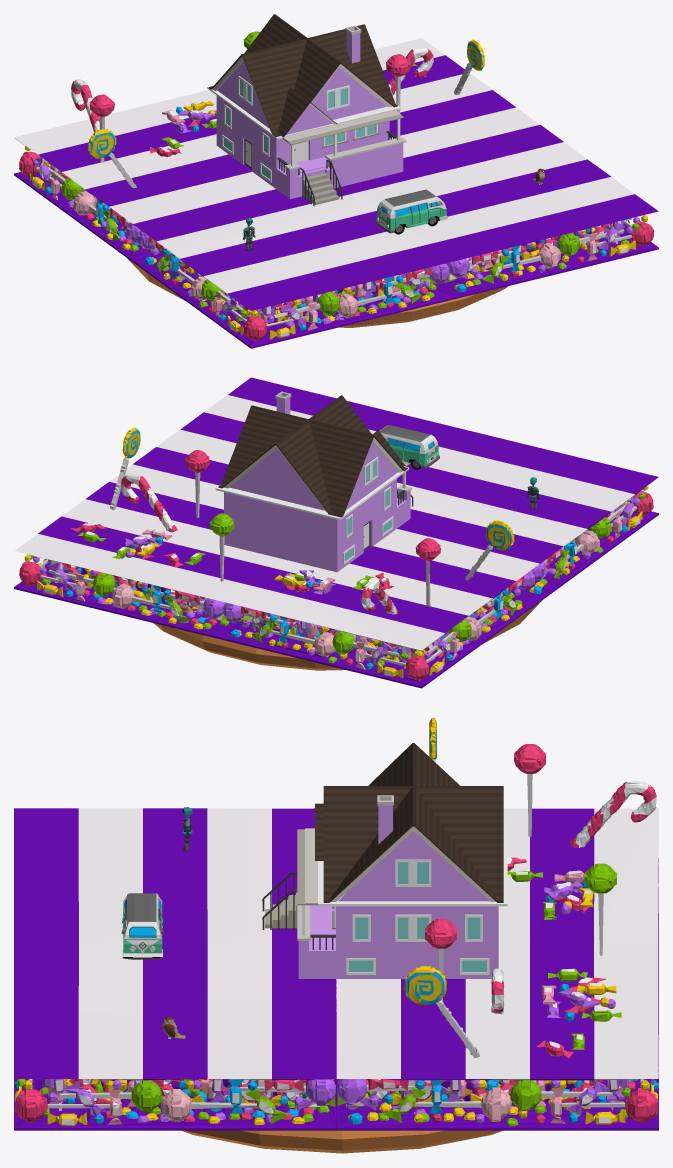
3 renders of one model, top to bottom at view 1: azimuth 30°, elevation 25°; view 2: azimuth 150°, elevation 25°; view 3: azimuth 270°, elevation 25°, orthographic. The views are drawn at different scales.
Visible parts, largest first — view 1: TERRAIN_CANDY, Cube.391, VEHICLES_VAN, UNDERGROUND_PIZZA; view 2: TERRAIN_CANDY, Cube.391, UNDERGROUND_PIZZA, VEHICLES_VAN; view 3: TERRAIN_CANDY, Cube.391, UNDERGROUND_PIZZA, VEHICLES_VAN.
Part boxes in pixels (x1,y1,x2,y2): TERRAIN_CANDY: (14, 31, 658, 348); Cube.391: (207, 14, 406, 206); VEHICLES_VAN: (375, 189, 447, 234); UNDERGROUND_PIZZA: (127, 258, 507, 327); TERRAIN_CANDY: (14, 377, 658, 688); Cube.391: (215, 391, 413, 572); UNDERGROUND_PIZZA: (153, 601, 541, 670); VEHICLES_VAN: (379, 425, 439, 469); TERRAIN_CANDY: (14, 717, 658, 1130); Cube.391: (262, 743, 507, 978); UNDERGROUND_PIZZA: (181, 1130, 502, 1153); VEHICLES_VAN: (121, 893, 163, 959).
Bounding box in the file's own units: 4059 × 1796 × 4000.
Materials: 37 (2 with a texture image).
